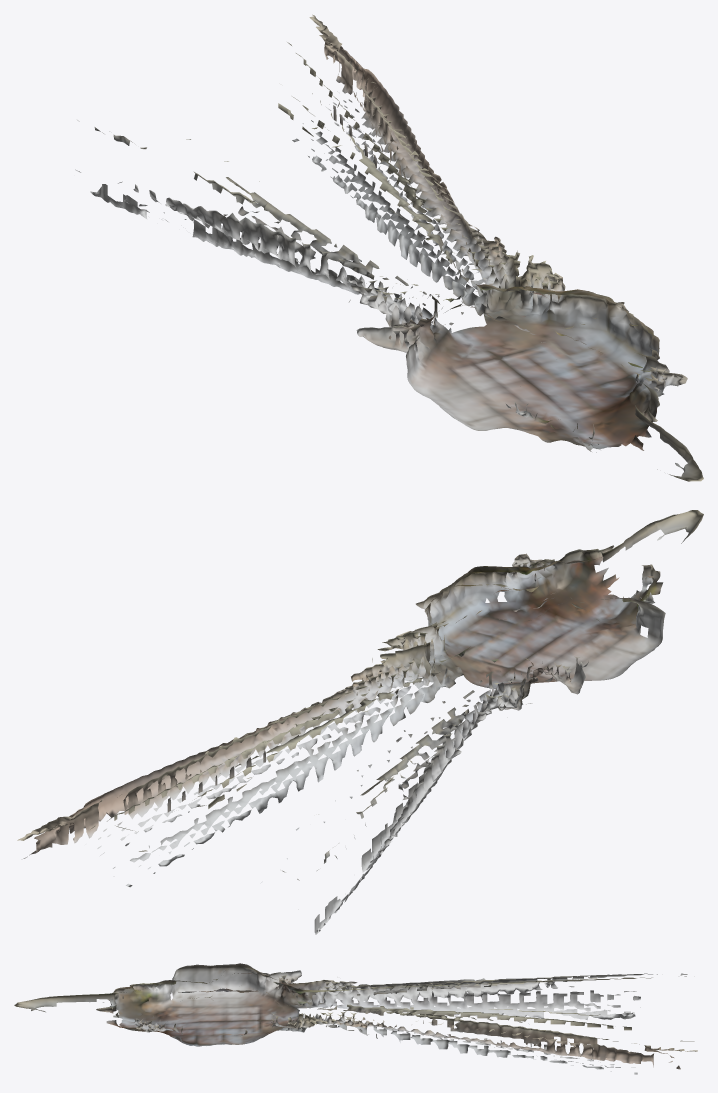
File: world-1769711061633.glb
The picture shows the model from 3 angles, top to bottom: view 1: azimuth 30°, elevation 25°; view 2: azimuth 150°, elevation 25°; view 3: azimuth 270°, elevation 25°; orthographic projection. The views are drawn at different scales.
Parts seen in each view (by area): view 1: world; view 2: world; view 3: world.
Part boxes in pixels (<box>): world: <box>75,14,703,481</box>; world: <box>17,510,703,934</box>; world: <box>14,963,697,1074</box>.
Size of the model in its own units: 12.07 by 5.2 by 38.63.
